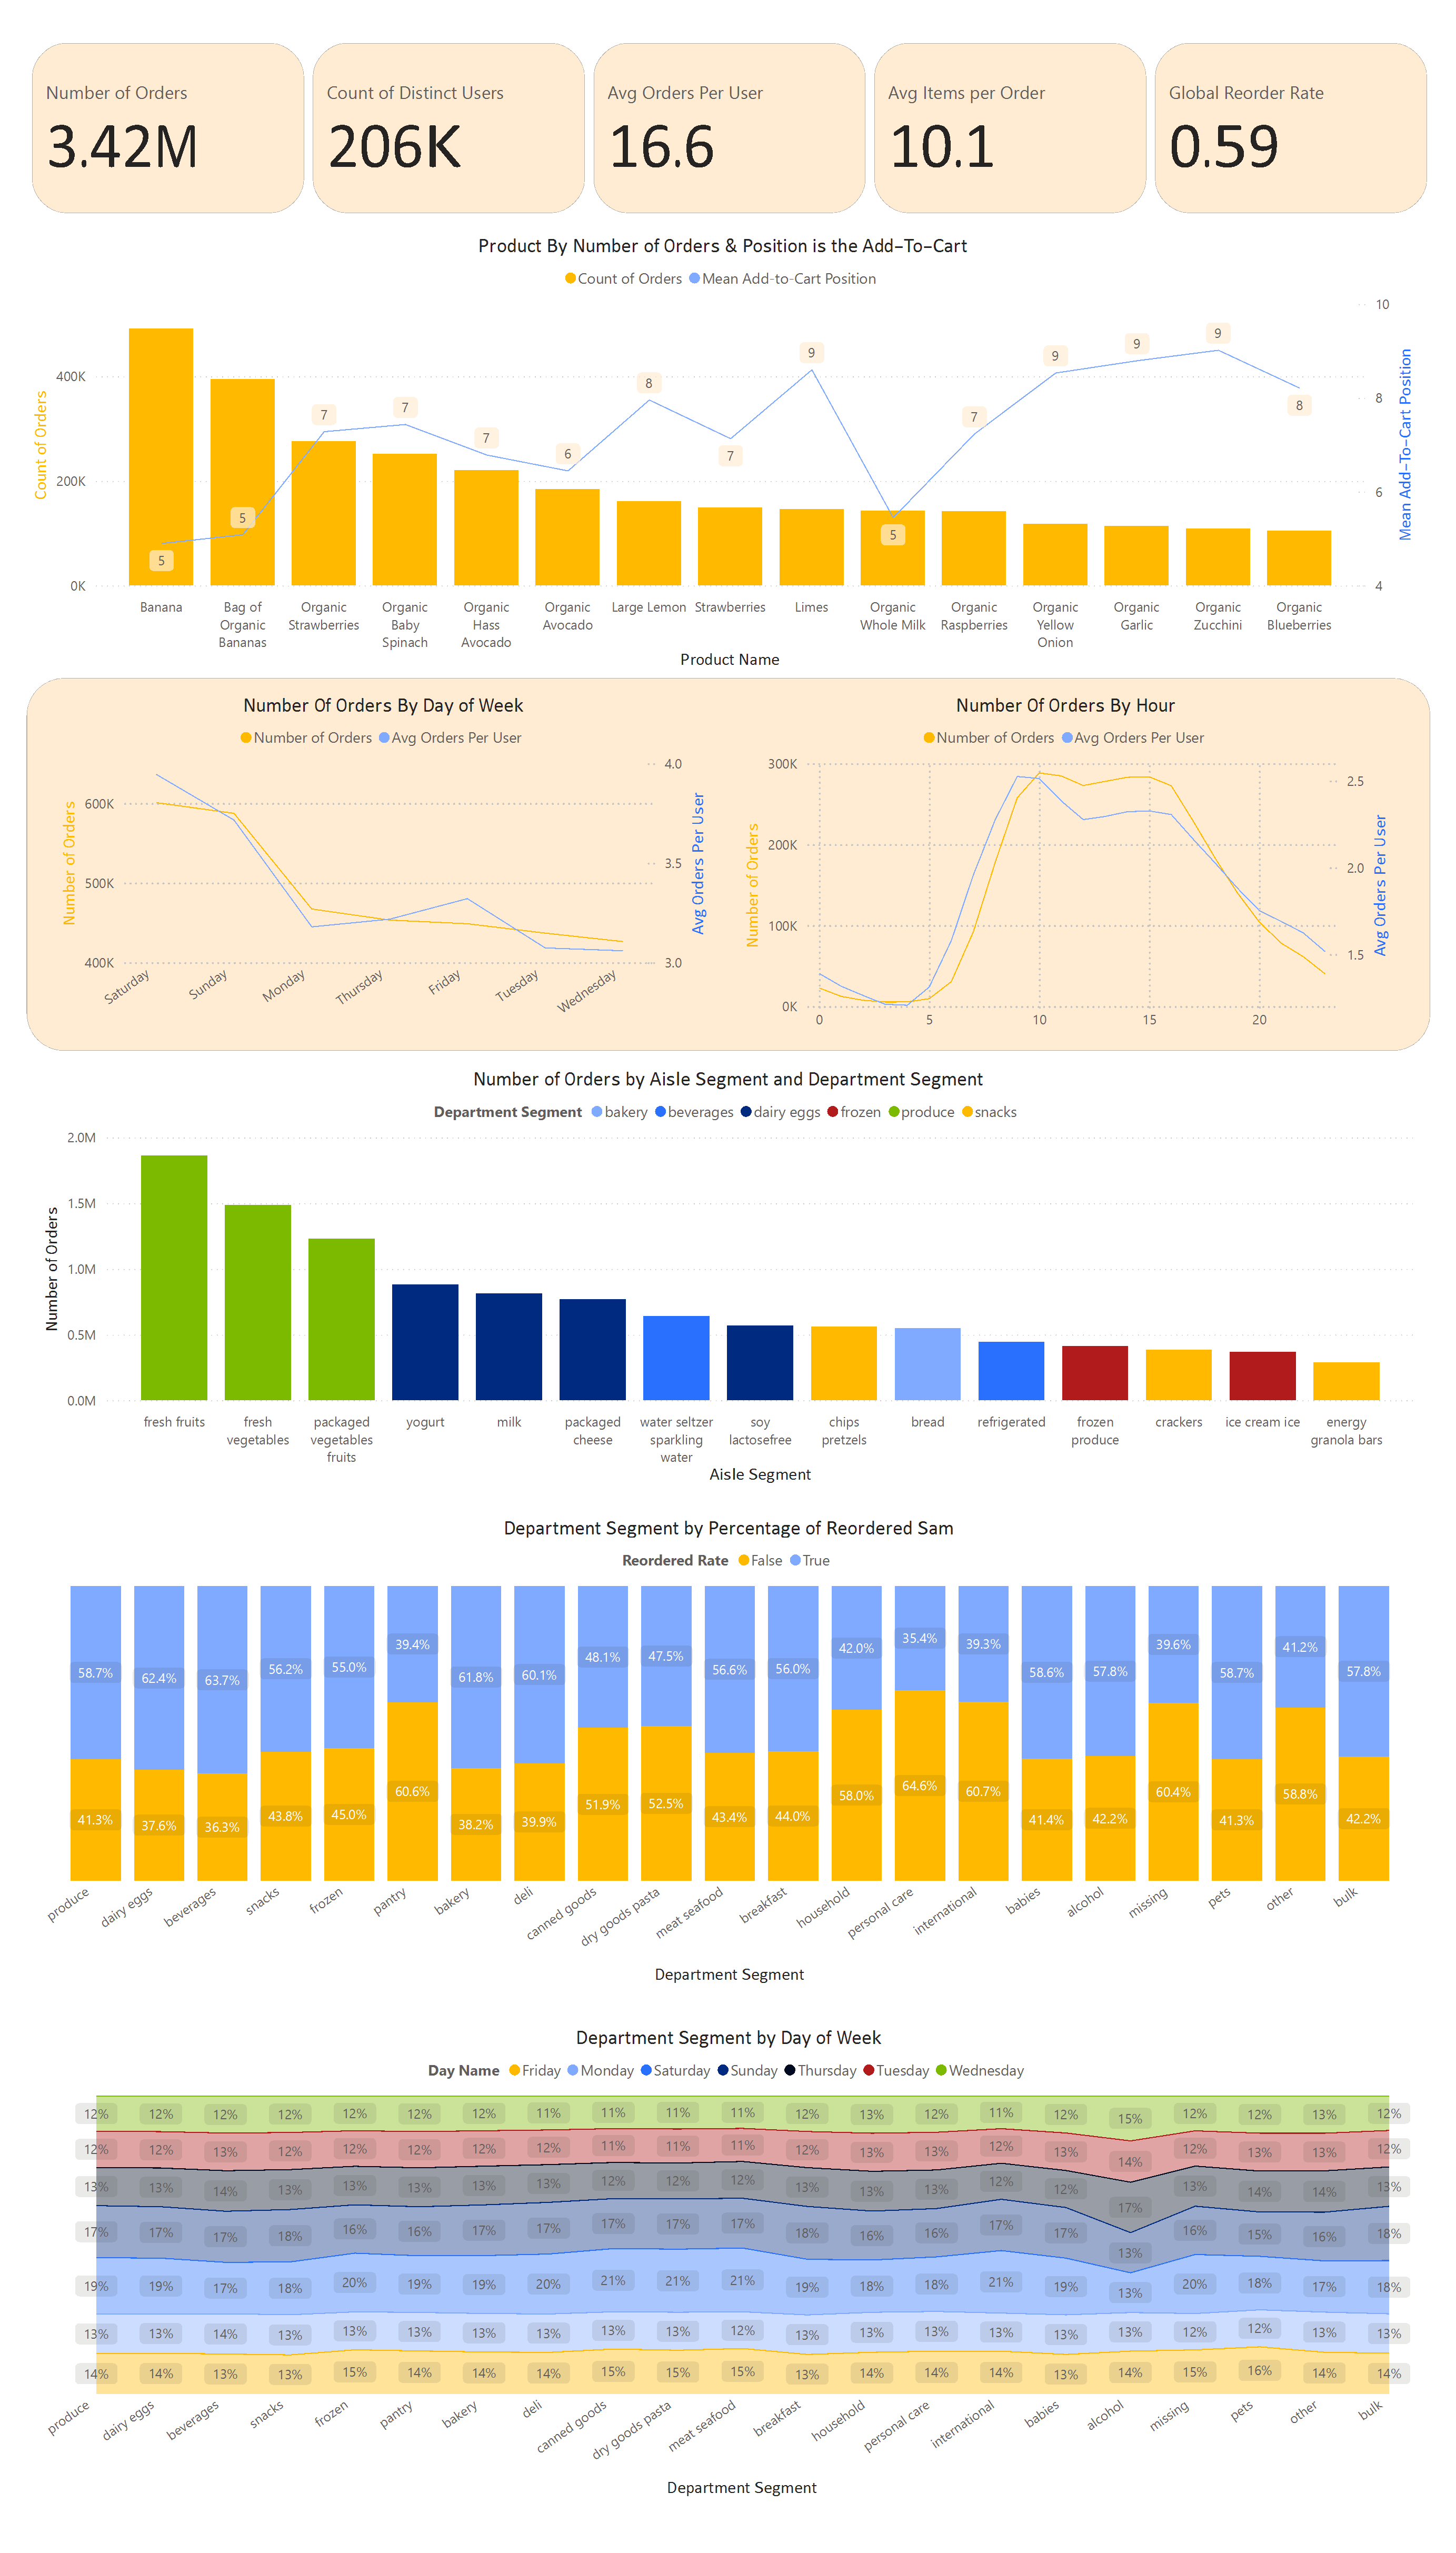

This screenshot's page, from the dashboard's own definition file:
{"tool":"powerbi","page":{"name":"Q1","canvas":[1280,2280],"ordinal":0},"visuals":[{"type":"shape","box":[0,594.2,1280.3,339.6],"z":0},{"type":"cardVisual","fields":{"Data":["orders.order_id","orders.user_id","_Measures.Avg Orders Per User","_Measures.Avg Items per User","_Measures.Global Reorder Rate"]},"box":[0,15,1280,155],"z":2000},{"type":"columnChart","fields":{"Y":["order_products.order_id"],"Category":["aisles.aisle"],"Series":["departments.department"]},"box":[0,935,1280,408.3],"z":3000},{"type":"lineChart","title":"Number Of Orders By Day of Week","fields":{"Category":["orders.Day Name"],"Y":["orders.order_id"],"Y2":["_Measures.Avg Orders Per User"]},"box":[16.2,593.6,618.7,339.6],"z":4000},{"type":"lineChart","title":"Number Of Orders By Hour","fields":{"Category":["orders.order_hour_of_day"],"Y":["orders.order_id"],"Y2":["_Measures.Avg Orders Per User"]},"box":[639.4,593.6,617.3,339.6],"z":5000},{"type":"lineStackedColumnComboChart","title":"Product By Number of Orders & Position is the Add-To-Cart","fields":{"Category":["products.product_name"],"Y":["order_products.order_id"],"Y2":["order_products.add_to_cart_order"]},"box":[0,175,1280,415],"z":6000},{"type":"clusteredColumnChart","title":"Department Segment by Day of Week","fields":{"Category":["departments.department"],"Y":["_Measures.Avg Items per User","_Measures.Avg Orders Per User","_Measures.Global Reorder Rate"]},"box":[0,1799.2,1281,457.7],"z":7000},{"type":"hundredPercentStackedColumnChart","title":"Department Segment by Percentage of Reordered Sam","fields":{"Category":["departments.department"],"Series":["order_products.reordered"],"Y":["order_products.order_id"]},"box":[0,1344.1,1281,455.1],"z":8000}]}

Visuals, with their boxes on the page's 1280x2280 design canvas (x1, y1, x2, y2). These are canvas units, not pixel positions in the 1456x2553 screenshot, which may show the page scaled, cropped or inside an application window:
shape: <bbox>0, 594, 1280, 934</bbox>
cardVisual - orders.order_id x orders.user_id: <bbox>0, 15, 1280, 170</bbox>
columnChart - order_products.order_id x aisles.aisle: <bbox>0, 935, 1280, 1343</bbox>
"Number Of Orders By Day of Week" lineChart: <bbox>16, 594, 635, 933</bbox>
"Number Of Orders By Hour" lineChart: <bbox>639, 594, 1257, 933</bbox>
"Product By Number of Orders & Position is the Add-To-Cart" lineStackedColumnComboChart: <bbox>0, 175, 1280, 590</bbox>
"Department Segment by Day of Week" clusteredColumnChart: <bbox>0, 1799, 1281, 2257</bbox>
"Department Segment by Percentage of Reordered Sam" hundredPercentStackedColumnChart: <bbox>0, 1344, 1281, 1799</bbox>
